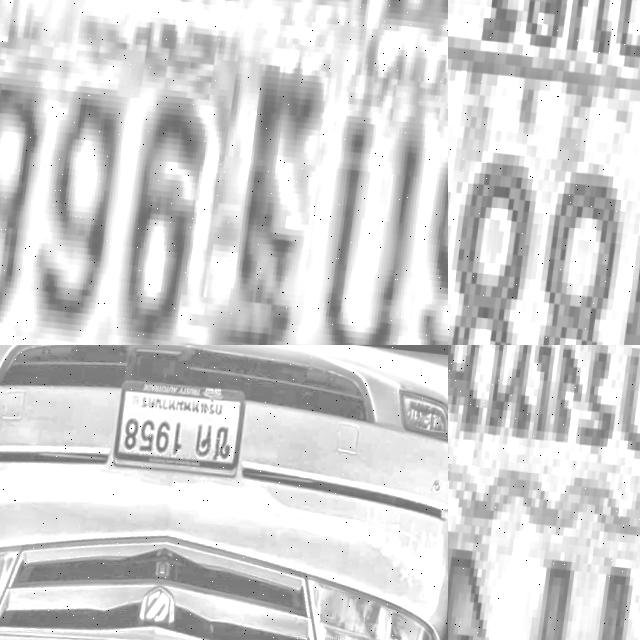license-plate: (0, 0, 448, 345), (448, 0, 640, 345), (448, 345, 640, 640), (110, 371, 248, 470)
